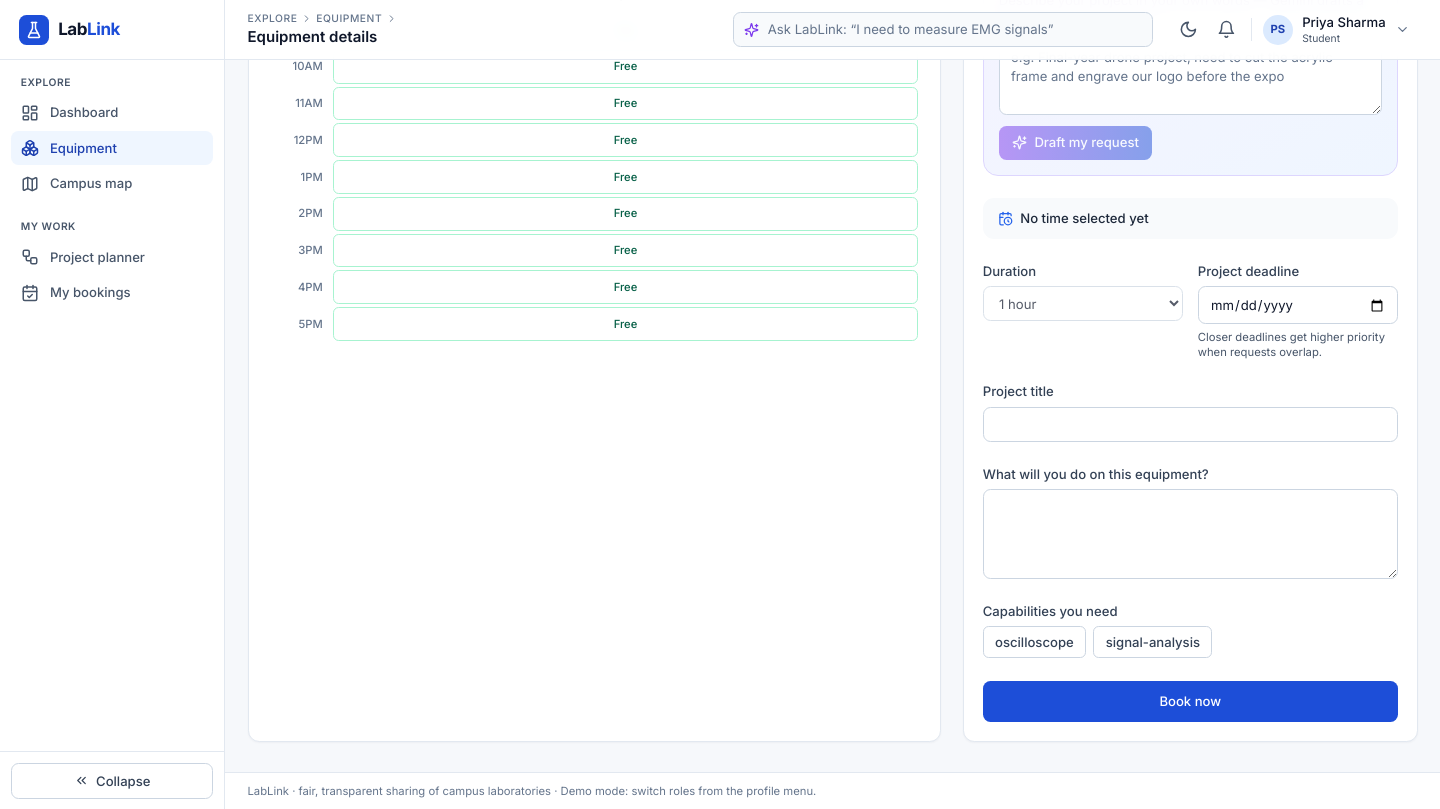
Test: booking a slot › validates the form, then books and returns to My bookings
This screenshot has width=1440, height=809.
(page scrolled)
Click the button "Book now" at [1190, 701], box x1=983 y1=680 x2=1398 y2=722
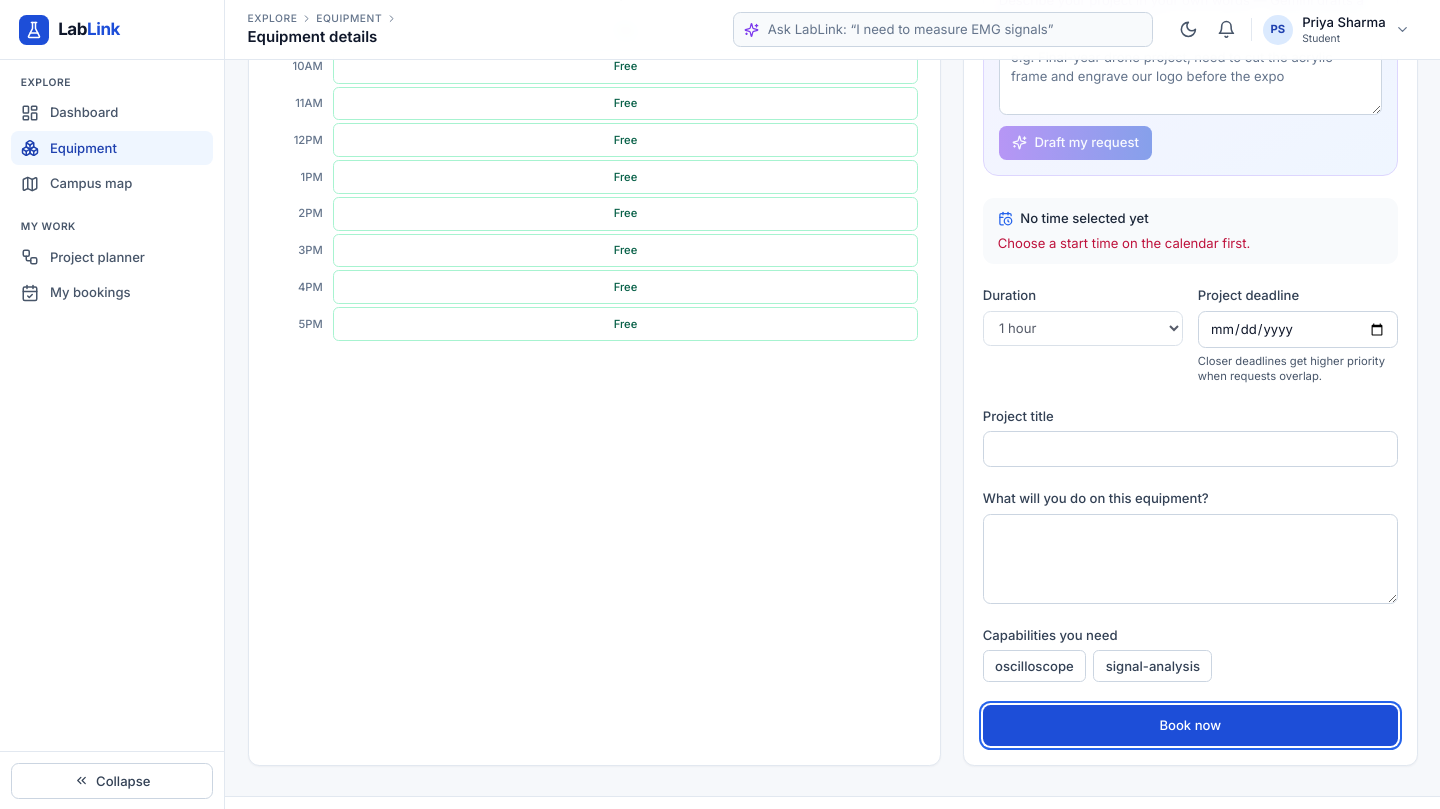
Now the text "Choose a start time on the calendar first." is shown, box x1=998 y1=235 x2=1250 y2=251
Click the button with aria-label "10AM: Free" at [626, 67], box x1=333 y1=50 x2=918 y2=84
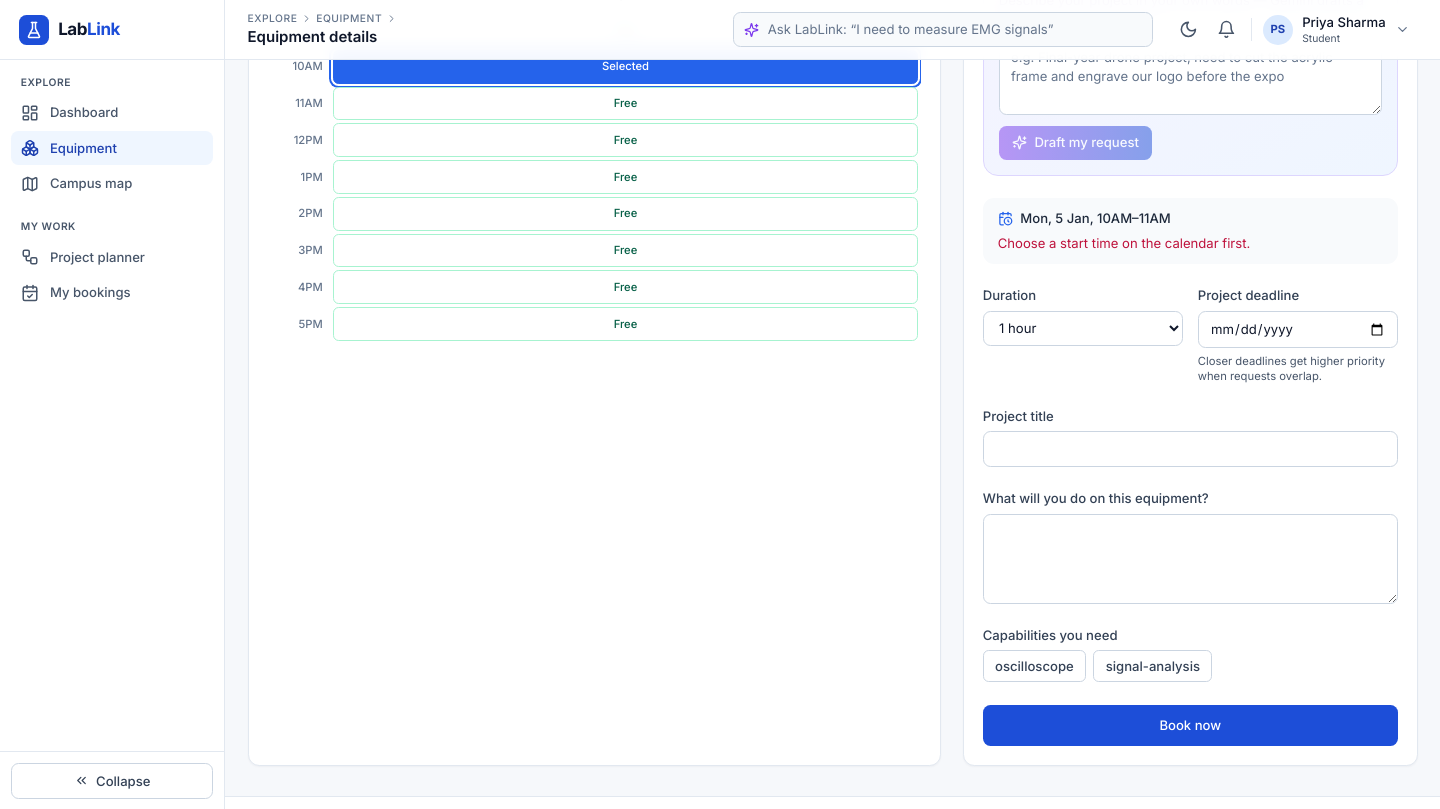
Type "Radio receiver" into the field labelled "Project title" at [1190, 449], box x1=983 y1=431 x2=1398 y2=467
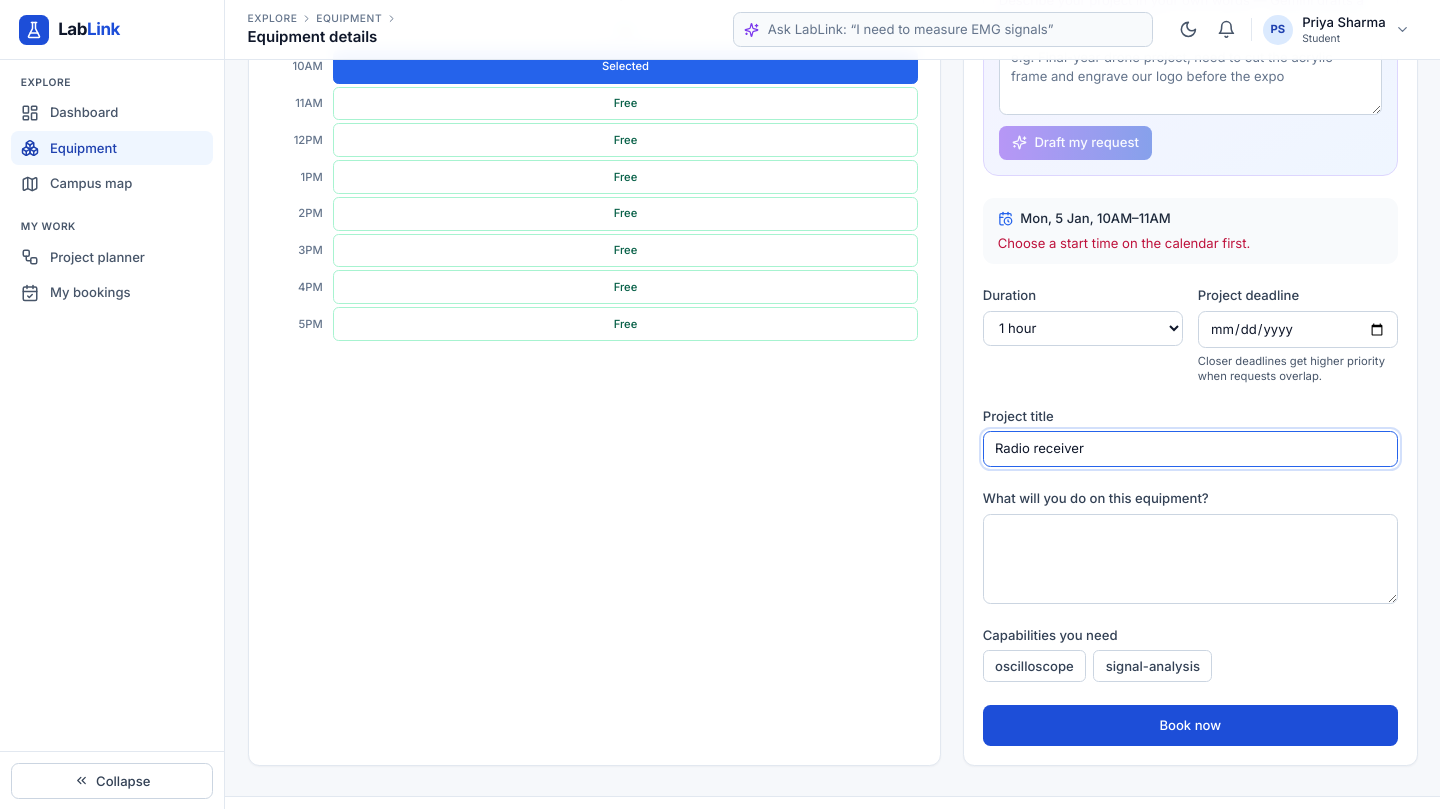
Type "Characterising an FM front-end on the bench oscilloscope" into the text box labelled "What will you do on this equipment?" at [1190, 558], box x1=983 y1=514 x2=1398 y2=604
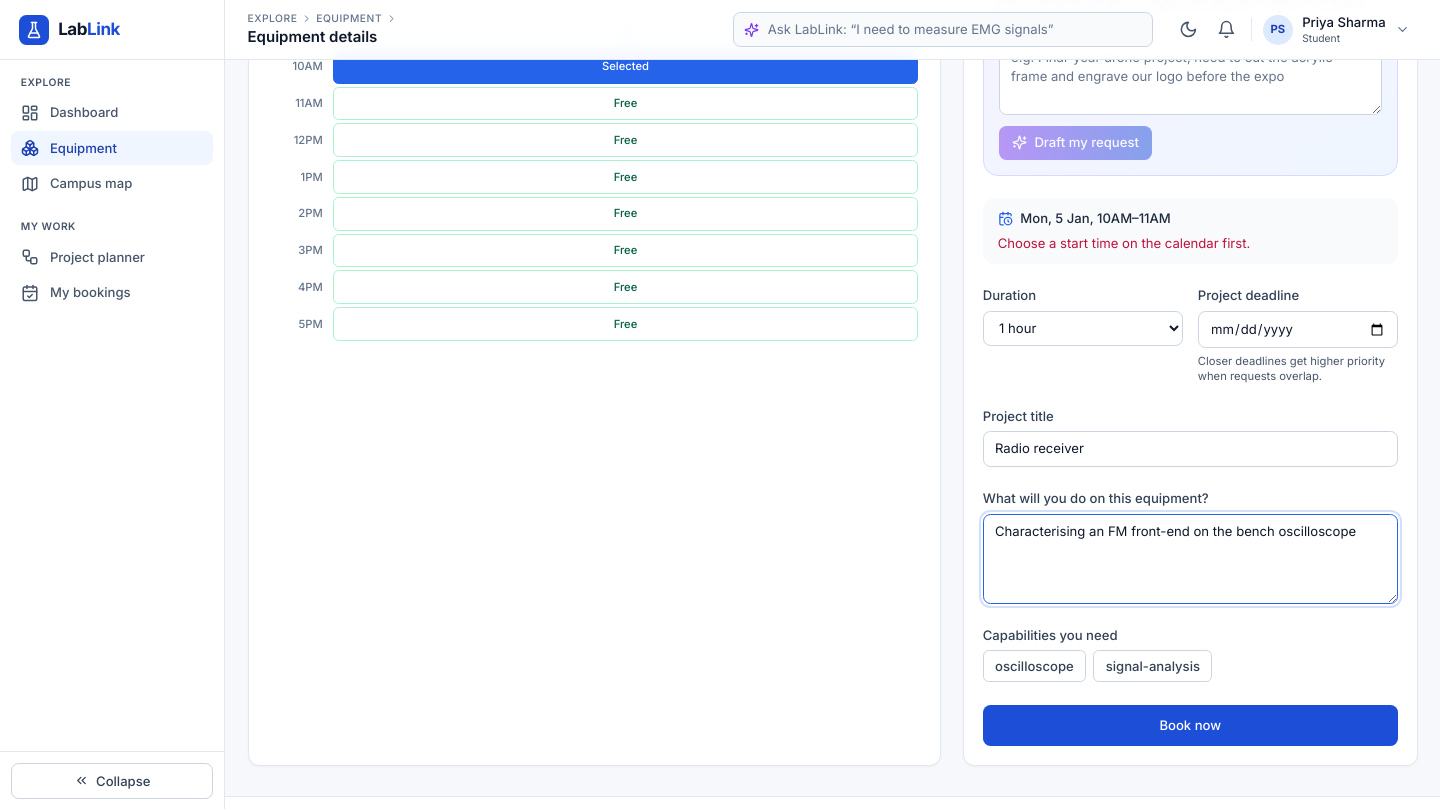
Type "2099-01-20" into the date field labelled "Project deadline" at [1298, 330], box x1=1198 y1=311 x2=1398 y2=348
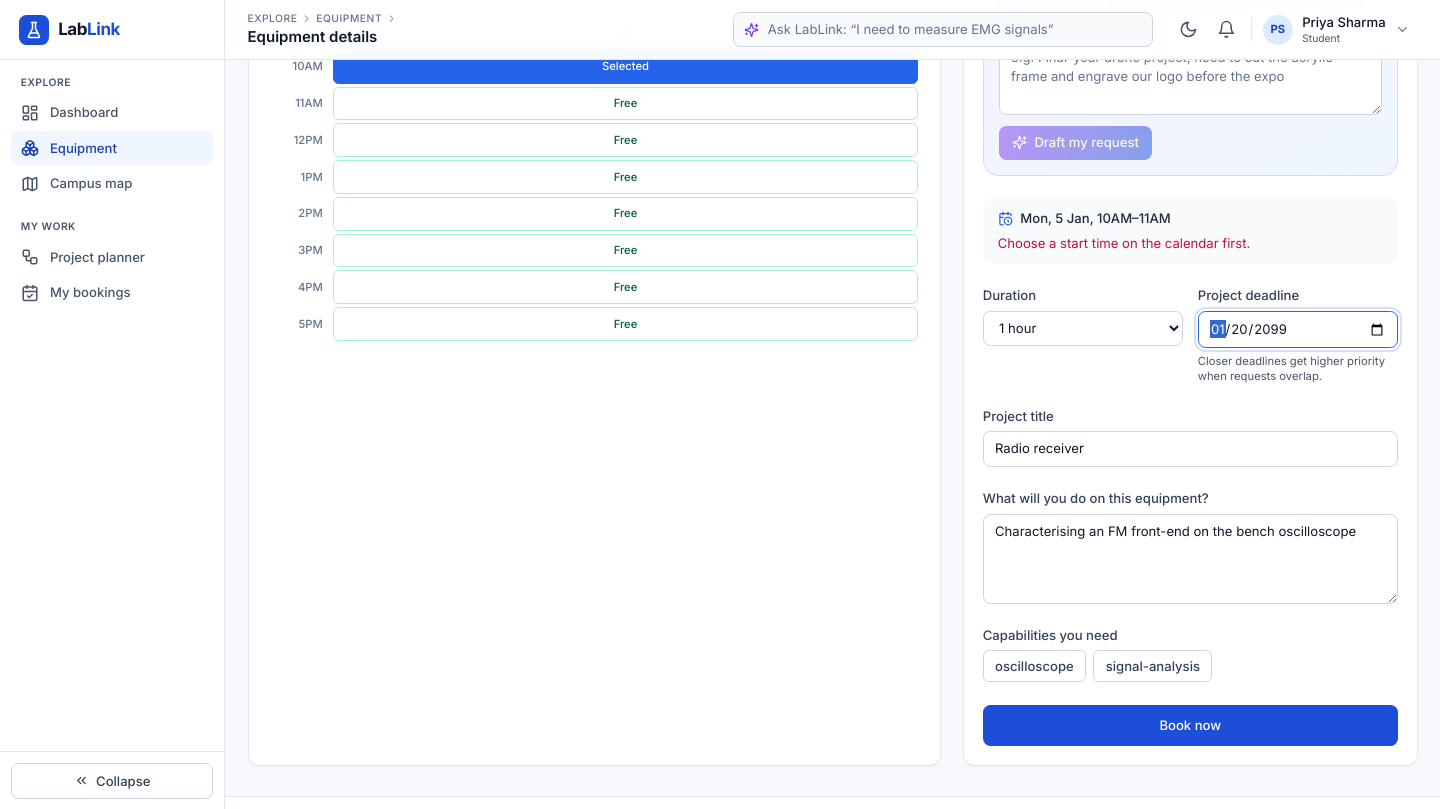
Click the button "Book now" at [1190, 726], box x1=983 y1=705 x2=1398 y2=746
(page scrolled)
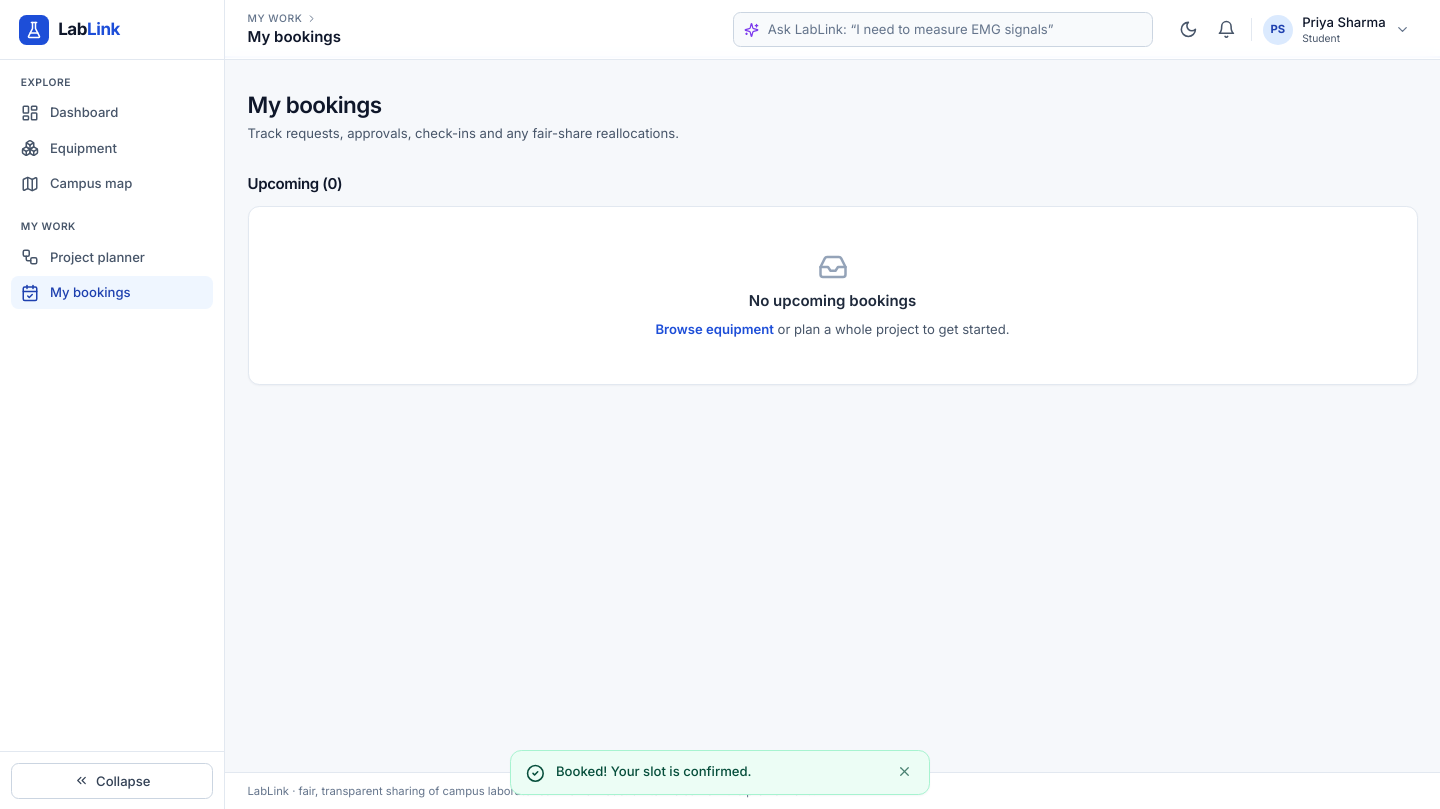
Now the heading "My bookings" is shown, box x1=248 y1=91 x2=382 y2=118
Now the text "Booked! Your slot is confirmed." is shown, box x1=556 y1=763 x2=752 y2=779
